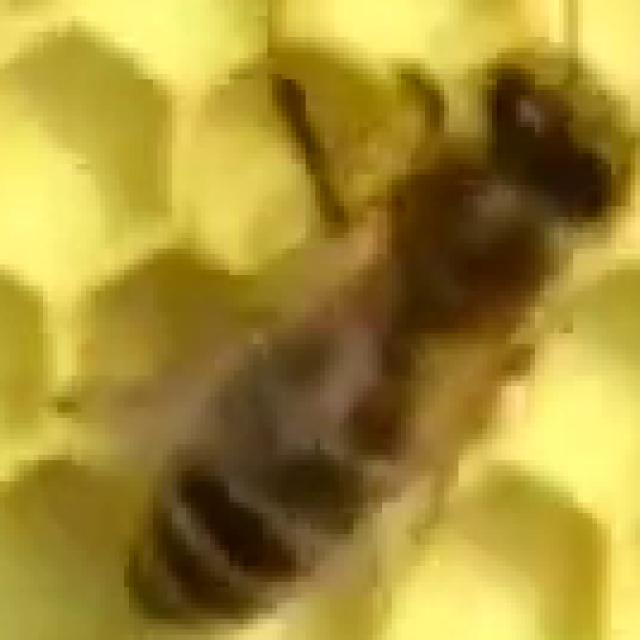honeybee: (124, 37, 640, 635)
